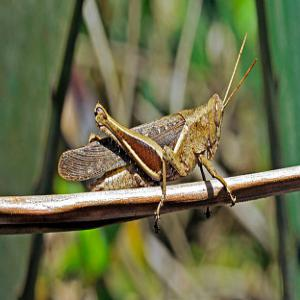locust: (53, 45, 258, 233)
